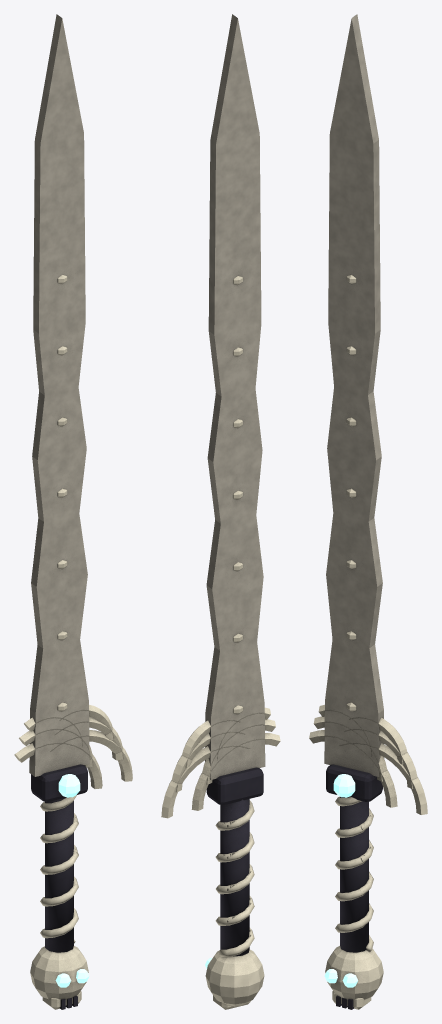
The model's file is 09_dead_sword.fbx.
3 views of the same model, side by side, from view 1: azimuth 30°, elevation 25°; view 2: azimuth 210°, elevation 25°; view 3: azimuth 330°, elevation 25° (orthographic).
Parts seen in each view (by area): view 1: Weapon; view 2: Weapon; view 3: Weapon.
Part boxes in pixels (x1,y1,x2,y2): Weapon: [14, 14, 132, 1009]; Weapon: [161, 14, 280, 1009]; Weapon: [309, 14, 427, 1009].
Bounding box in the file's own units: 15.74 × 126 × 7.22.
Materials: 2 (1 with a texture image).
